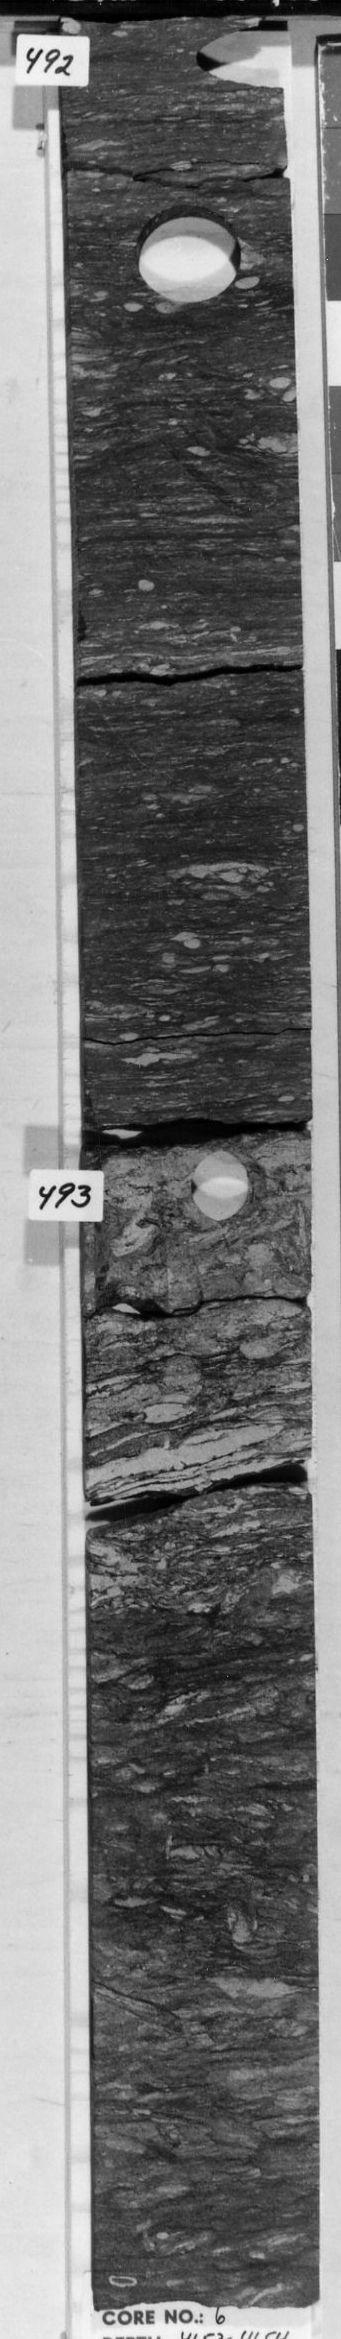hplug: (183, 1144, 281, 1234), (191, 24, 284, 98)
scal: (125, 195, 252, 313)
vplug: (95, 1152, 182, 1325)
